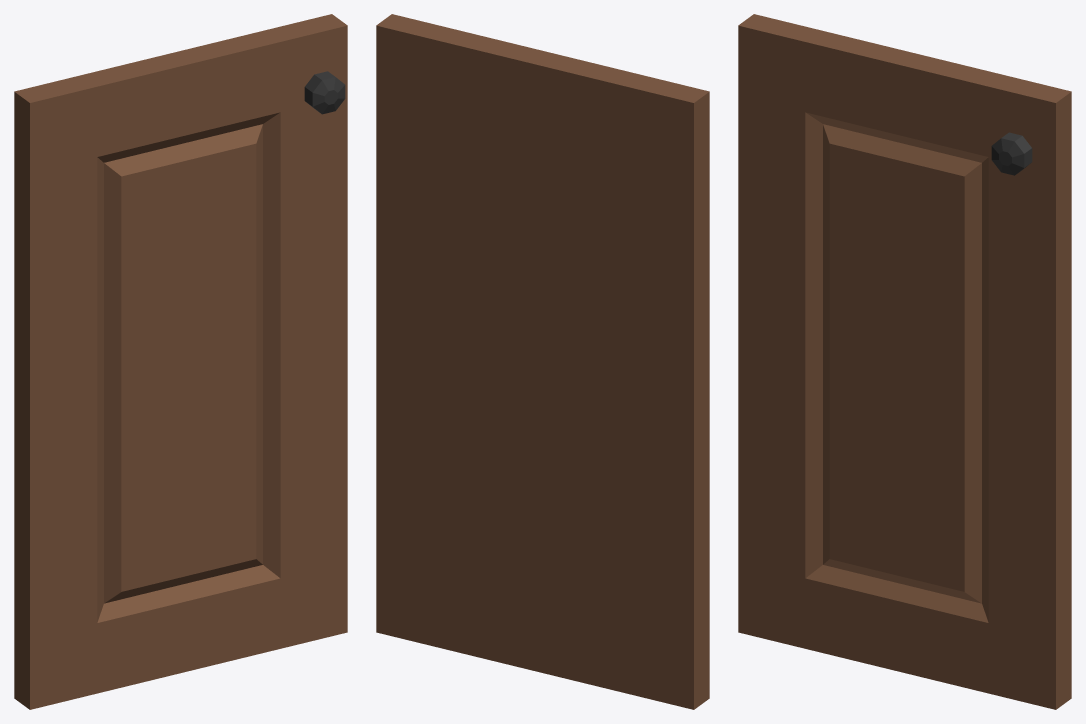
File: Door3_C2_10.fbx
3 views of the same model, side by side, from view 1: azimuth 30°, elevation 25°; view 2: azimuth 150°, elevation 25°; view 3: azimuth 330°, elevation 25° (orthographic).
Visible parts, largest first — view 1: Door3_C2_10; view 2: Door3_C2_10; view 3: Door3_C2_10.
Part boxes in pixels (x1,y1,x2,y2): Door3_C2_10: (14,14,347,709); Door3_C2_10: (376,14,709,709); Door3_C2_10: (738,14,1071,709).
Size of the model in its own units: 29 by 52.92 by 5.19.
